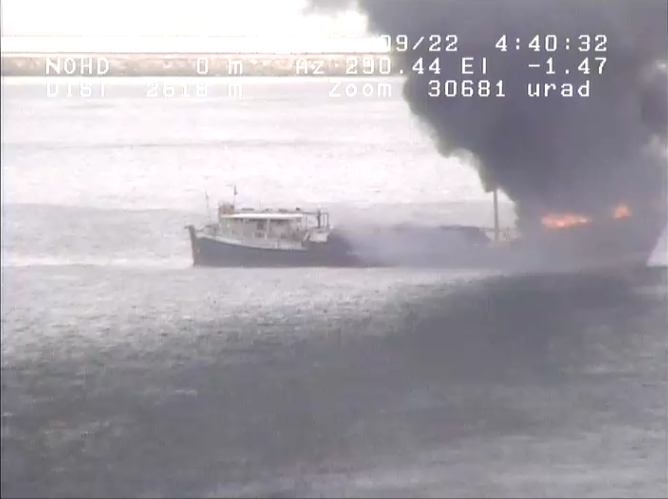FIRE_ONBOARD: (142, 8, 668, 334)
FISHING_VESSEL: (167, 157, 668, 294)
